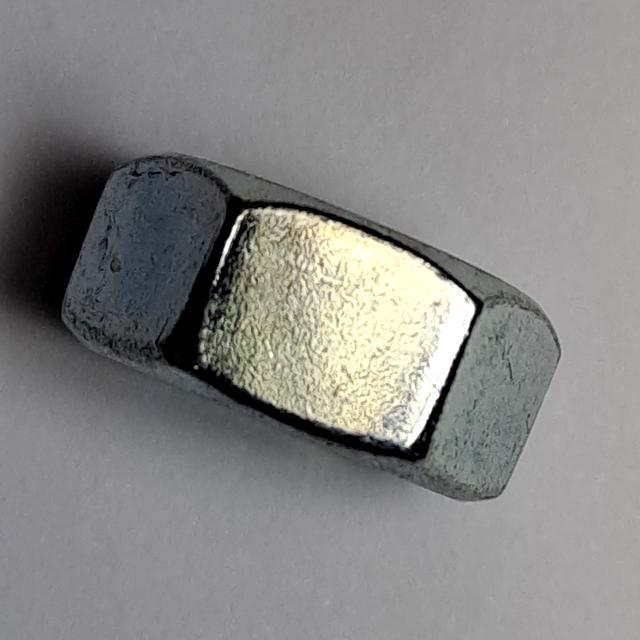Side_Excellent: (55, 144, 581, 513)
